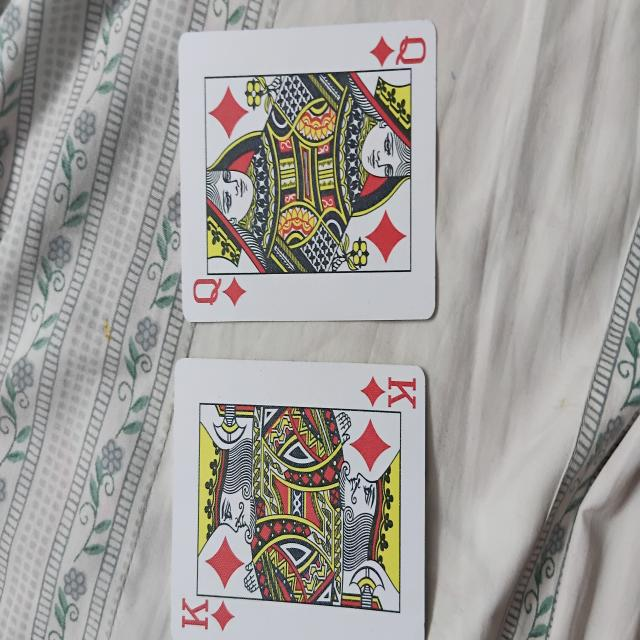KD: (172, 358, 427, 640)
QD: (177, 35, 439, 322)
